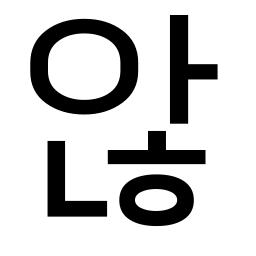Gaji: (154, 49, 207, 93)
